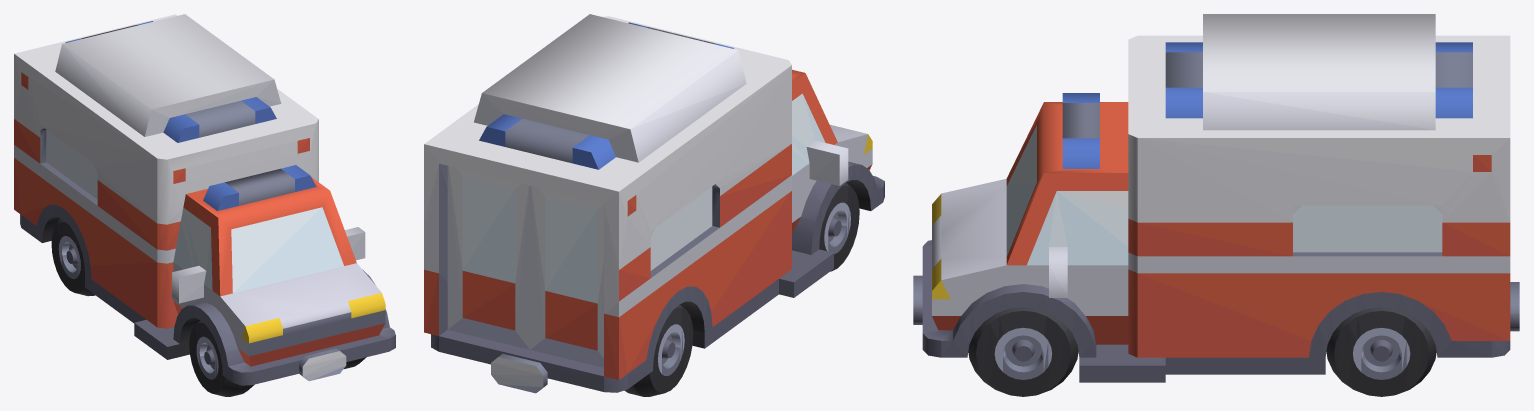
3 renders of one model, left to right at view 1: azimuth 30°, elevation 25°; view 2: azimuth 150°, elevation 25°; view 3: azimuth 270°, elevation 25°, orthographic. The views are drawn at different scales.
Visible parts, largest first — view 1: body, wheel-front-right, wheel-back-right; view 2: body, door-left, door-right, wheel-back-right, wheel-front-right; view 3: body, wheel-back-left, wheel-front-left.
Part boxes in pixels (x1=…): body: x1=14, y1=14, x2=395, y2=385; wheel-front-right: x1=189, y1=320, x2=254, y2=396; wheel-back-right: x1=51, y1=219, x2=95, y2=296; body: x1=424, y1=14, x2=884, y2=393; door-left: x1=447, y1=165, x2=530, y2=349; door-right: x1=530, y1=186, x2=603, y2=367; wheel-back-right: x1=624, y1=304, x2=693, y2=396; wheel-front-right: x1=819, y1=183, x2=859, y2=271; body: x1=913, y1=14, x2=1519, y2=382; wheel-back-left: x1=1326, y1=307, x2=1436, y2=396; wheel-front-left: x1=968, y1=307, x2=1078, y2=396.
Size of the model in its own units: 2.17 by 2.6 by 4.69.
